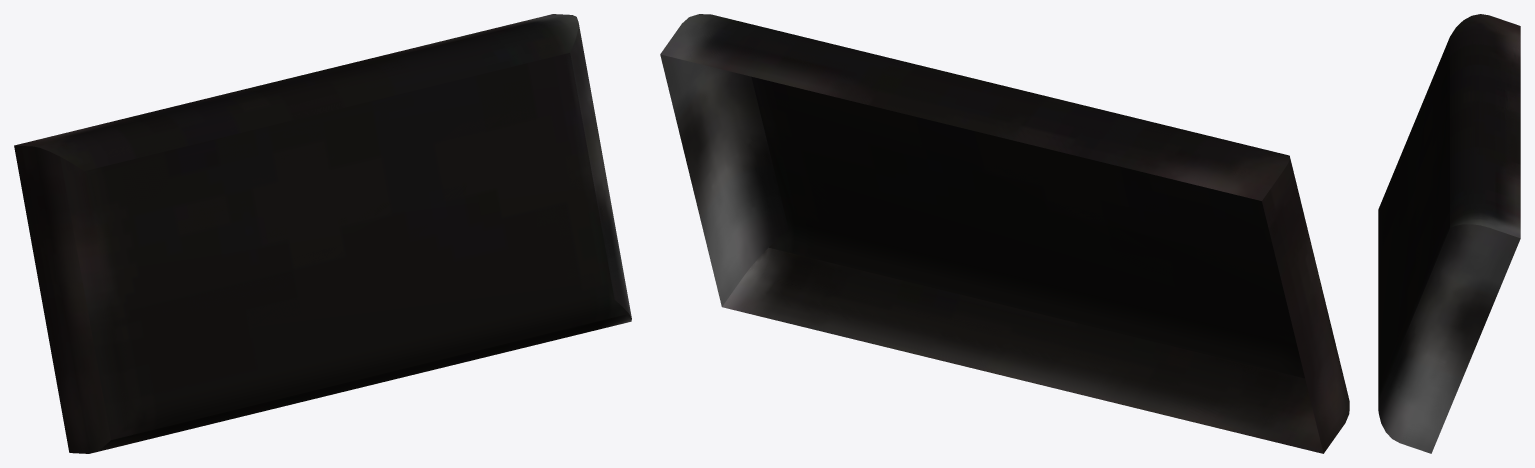
Rendered from link_1__button-2.glb.
The picture shows the model from 3 angles, left to right: view 1: azimuth 30°, elevation 25°; view 2: azimuth 150°, elevation 25°; view 3: azimuth 270°, elevation 25°; orthographic projection. The views are drawn at different scales.
Parts seen in each view (by area): view 1: geometry_0; view 2: geometry_0; view 3: geometry_0.
Boxes of the visible parts, <box> form: geometry_0: <box>14,14,631,453</box>; geometry_0: <box>660,14,1349,453</box>; geometry_0: <box>1378,14,1520,453</box>.
Bounding box in the file's own units: 0.0354 × 0.0177 × 0.01.
Materials: 1 (1 with a texture image).
